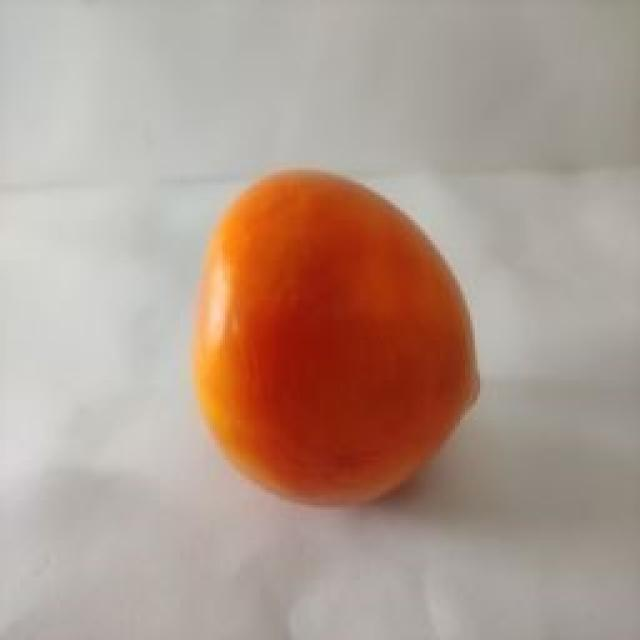Ripe: (184, 159, 491, 520)
